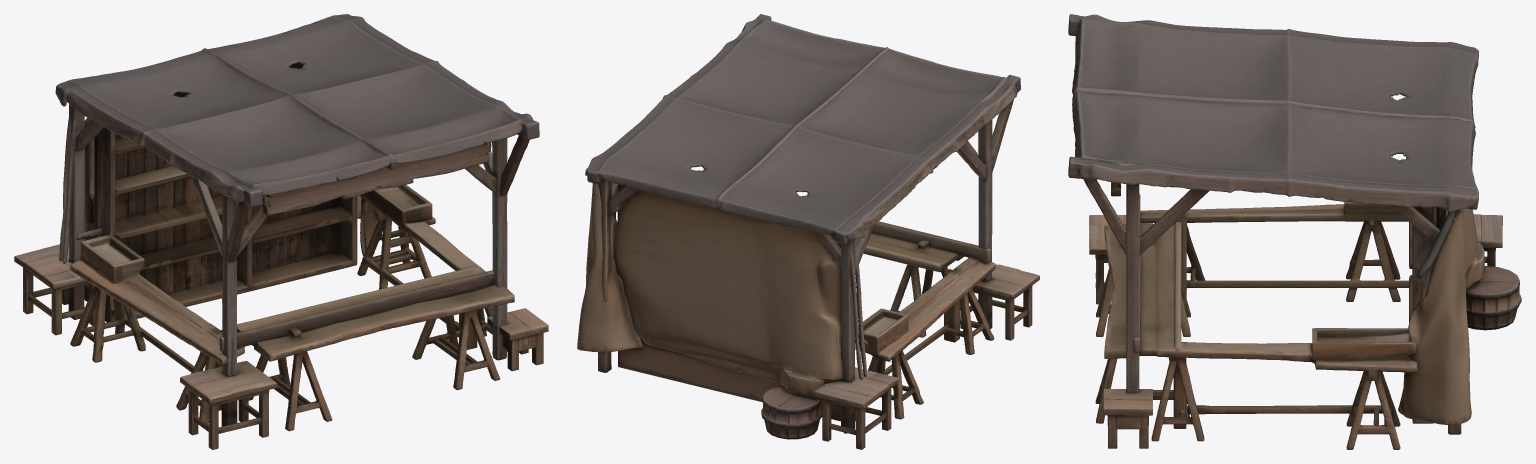
The model's file is tripo_convert_e9e125fc-5748-4649-ae12-7e7e3440d0be.fbx.
3 views of the same model, side by side, from view 1: azimuth 30°, elevation 25°; view 2: azimuth 150°, elevation 25°; view 3: azimuth 270°, elevation 25° (orthographic). The views are drawn at different scales.
Parts seen in each view (by area): view 1: tripo_part_0, tripo_part_1, tripo_part_2, tripo_part_5, tripo_part_9, tripo_part_6, tripo_part_4, tripo_part_3, tripo_part_8; view 2: tripo_part_0, tripo_part_1, tripo_part_3, tripo_part_6, tripo_part_2, tripo_part_7, tripo_part_5; view 3: tripo_part_0, tripo_part_3, tripo_part_2, tripo_part_1, tripo_part_4, tripo_part_7, tripo_part_8, tripo_part_5, tripo_part_6.
Boxes of the visible parts, x1,y1,x2,y2 form: tripo_part_0: [55, 14, 539, 415]; tripo_part_1: [70, 63, 494, 423]; tripo_part_2: [237, 221, 514, 431]; tripo_part_5: [180, 361, 277, 449]; tripo_part_9: [262, 142, 491, 215]; tripo_part_6: [14, 242, 96, 335]; tripo_part_4: [357, 194, 458, 330]; tripo_part_3: [357, 185, 432, 255]; tripo_part_8: [487, 308, 548, 371]; tripo_part_0: [585, 14, 1020, 433]; tripo_part_1: [609, 184, 995, 421]; tripo_part_3: [577, 183, 642, 352]; tripo_part_6: [814, 367, 898, 449]; tripo_part_2: [855, 233, 963, 337]; tripo_part_7: [761, 385, 822, 439]; tripo_part_5: [960, 264, 1039, 340]; tripo_part_0: [1068, 14, 1478, 434]; tripo_part_3: [1312, 209, 1471, 424]; tripo_part_2: [1095, 222, 1312, 441]; tripo_part_1: [1133, 194, 1484, 423]; tripo_part_4: [1187, 354, 1417, 449]; tripo_part_7: [1466, 266, 1521, 330]; tripo_part_8: [1103, 389, 1152, 448]; tripo_part_5: [1089, 215, 1152, 304]; tripo_part_6: [1473, 214, 1502, 266].
Size of the model in its own units: 91.39 by 98.31 by 66.62.
